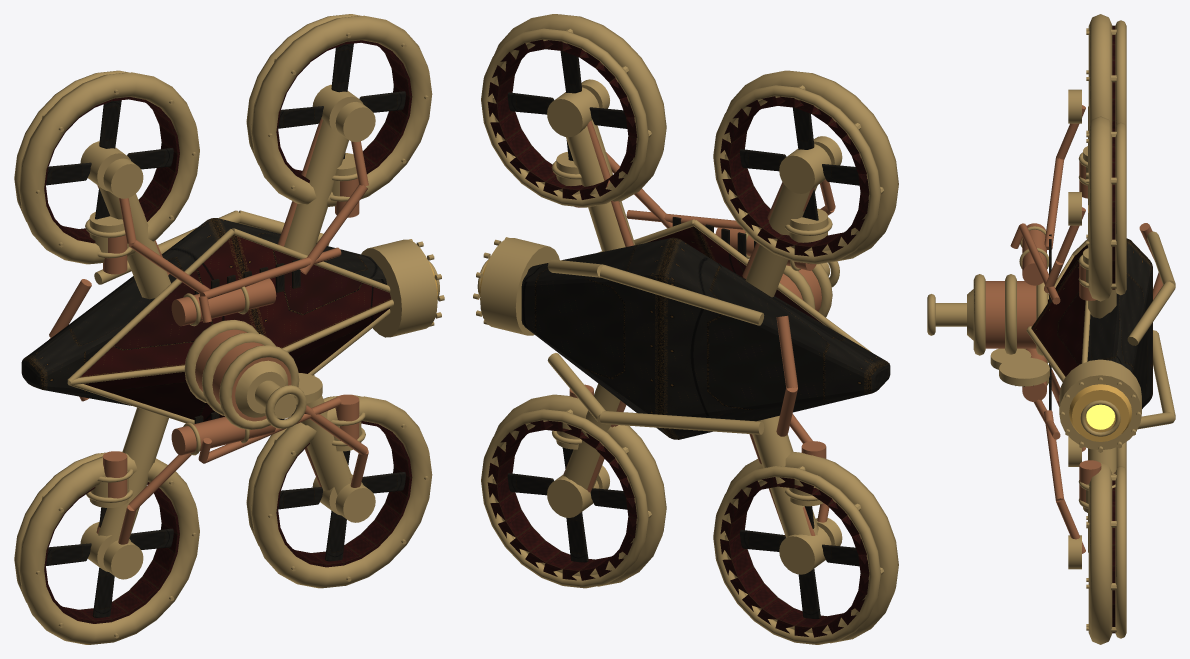
Rendered from drone-high.glb.
3 views of the same model, side by side, from view 1: azimuth 30°, elevation 25°; view 2: azimuth 150°, elevation 25°; view 3: azimuth 270°, elevation 25° (orthographic). The views are drawn at different scales.
Parts seen in each view (by area): view 1: drone-root / Machined brass, drone-root / Burgundy enamel, drone-root / Copper feed lines, drone-root / Riveted iron, Survey rotor.001 / Riveted iron, Survey rotor / Riveted iron, Survey rotor.002 / Riveted iron, Survey rotor.003 / Riveted iron, Survey rotor.001 / Machined brass, Survey rotor.003 / Machined brass, Survey rotor / Machined brass; view 2: drone-root / Machined brass, drone-root / Riveted iron, drone-root / Burgundy enamel, drone-root / Copper feed lines, Survey rotor.001 / Riveted iron, Survey rotor.002 / Riveted iron, Survey rotor / Riveted iron, Survey rotor.003 / Riveted iron, Survey rotor.001 / Machined brass, Survey rotor.003 / Machined brass, Survey rotor / Machined brass, Survey rotor.002 / Machined brass; view 3: drone-root / Machined brass, drone-root / Copper feed lines, drone-root / Riveted iron, drone-root / Burgundy enamel, drone-root / Ore gold / optics, drone-root / Amber lamps.
Boxes of the visible parts, x1=… form: drone-root / Machined brass: x1=14, y1=14, x2=444, y2=644; drone-root / Burgundy enamel: x1=44, y1=40, x2=412, y2=623; drone-root / Copper feed lines: x1=49, y1=118, x2=368, y2=544; drone-root / Riveted iron: x1=21, y1=218, x2=386, y2=423; Survey rotor.001 / Riveted iron: x1=46, y1=100, x2=173, y2=219; Survey rotor / Riveted iron: x1=46, y1=507, x2=173, y2=617; Survey rotor.002 / Riveted iron: x1=278, y1=450, x2=405, y2=561; Survey rotor.003 / Riveted iron: x1=278, y1=43, x2=405, y2=159; Survey rotor.001 / Machined brass: x1=80, y1=141, x2=130, y2=191; Survey rotor.003 / Machined brass: x1=312, y1=84, x2=362, y2=131; Survey rotor / Machined brass: x1=80, y1=522, x2=130, y2=571; drone-root / Machined brass: x1=473, y1=14, x2=898, y2=644; drone-root / Riveted iron: x1=521, y1=217, x2=890, y2=439; drone-root / Burgundy enamel: x1=487, y1=39, x2=869, y2=637; drone-root / Copper feed lines: x1=563, y1=120, x2=835, y2=537; Survey rotor.001 / Riveted iron: x1=739, y1=107, x2=859, y2=220; Survey rotor.002 / Riveted iron: x1=507, y1=447, x2=627, y2=562; Survey rotor / Riveted iron: x1=739, y1=506, x2=859, y2=618; Survey rotor.003 / Riveted iron: x1=507, y1=51, x2=627, y2=160; Survey rotor.001 / Machined brass: x1=779, y1=144, x2=831, y2=193; Survey rotor.003 / Machined brass: x1=547, y1=87, x2=599, y2=137; Survey rotor / Machined brass: x1=779, y1=526, x2=831, y2=574; Survey rotor.002 / Machined brass: x1=547, y1=475, x2=599, y2=517; drone-root / Machined brass: x1=927, y1=14, x2=1175, y2=644; drone-root / Copper feed lines: x1=985, y1=105, x2=1162, y2=553; drone-root / Riveted iron: x1=1015, y1=234, x2=1152, y2=410; drone-root / Burgundy enamel: x1=1031, y1=25, x2=1115, y2=633; drone-root / Ore gold / optics: x1=1069, y1=384, x2=1131, y2=441; drone-root / Amber lamps: x1=1086, y1=404, x2=1114, y2=429.
Bounding box in the file's own units: 1.15 × 1.52 × 0.6685.
Materials: 7 (2 with a texture image).
